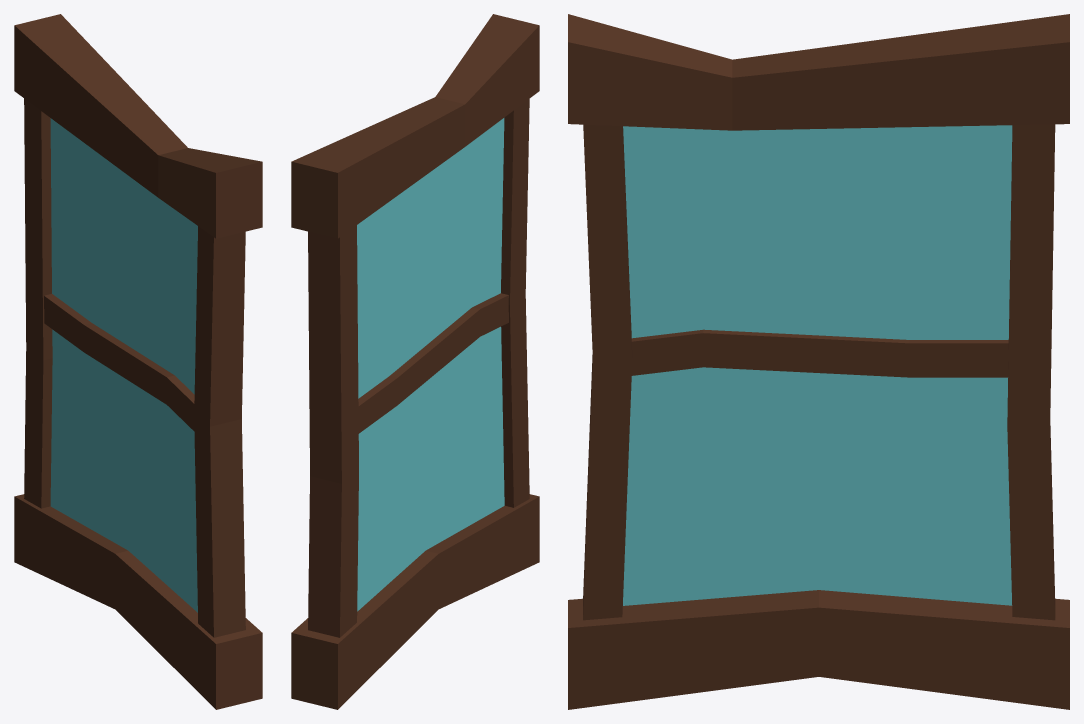
The model's file is Stilt_Window_2Panels.fbx.
3 renders of one model, left to right at view 1: azimuth 30°, elevation 25°; view 2: azimuth 150°, elevation 25°; view 3: azimuth 270°, elevation 25°, orthographic. The views are drawn at different scales.
Visible parts, largest first — view 1: Window_3; view 2: Window_3; view 3: Window_3.
Boxes of the visible parts, bbox=[...] form: Window_3: bbox=[14, 14, 262, 709]; Window_3: bbox=[291, 14, 539, 709]; Window_3: bbox=[568, 14, 1069, 709].
Bounding box in the file's own units: 5.22 × 57.78 × 39.34.
